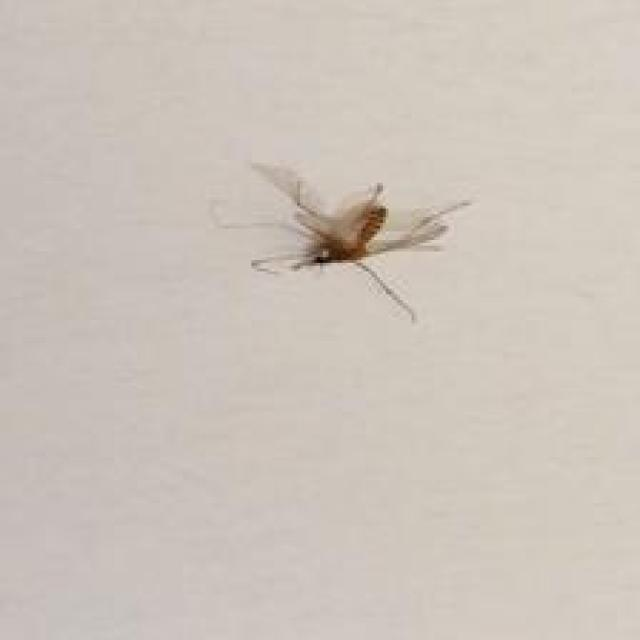Culex: (244, 159, 470, 324)
